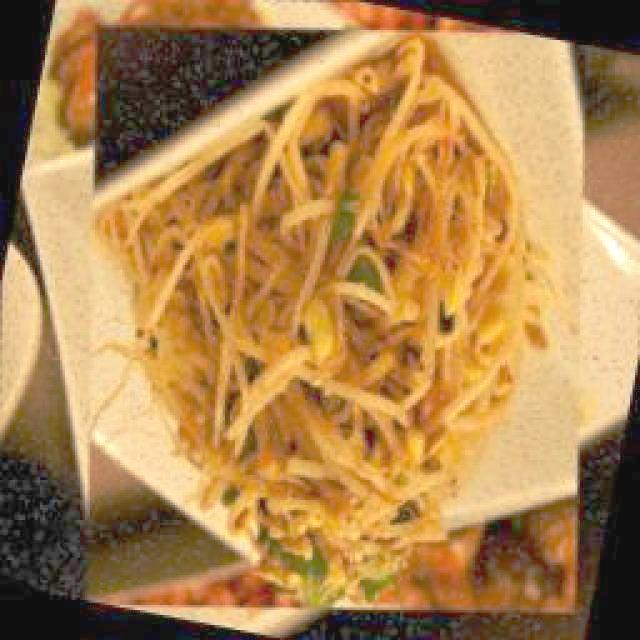mung_bean_sprouts: (107, 207, 548, 602), (395, 48, 514, 203), (295, 68, 395, 202), (247, 104, 291, 209), (192, 144, 246, 206), (159, 162, 195, 205)
